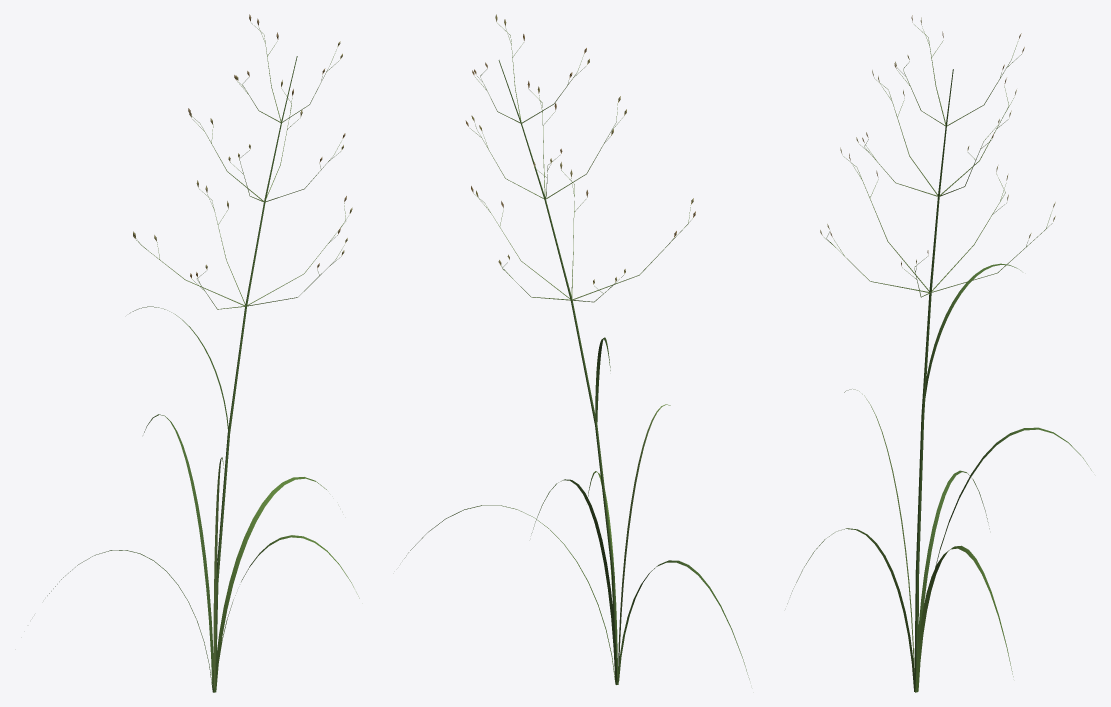
The picture shows the model from 3 angles, left to right: view 1: azimuth 30°, elevation 25°; view 2: azimuth 150°, elevation 25°; view 3: azimuth 270°, elevation 25°; orthographic projection. The views are drawn at different scales.
Visible parts, largest first — view 1: Specimen C; view 2: Specimen C; view 3: Specimen C.
Boxes of the visible parts, x1,y1,x2,y2 form: Specimen C: (47,14,359,692); Specimen C: (404,14,749,684); Specimen C: (787,15,1091,692).
Bounding box in the file's own units: 0.1456 × 0.252 × 0.1019.
